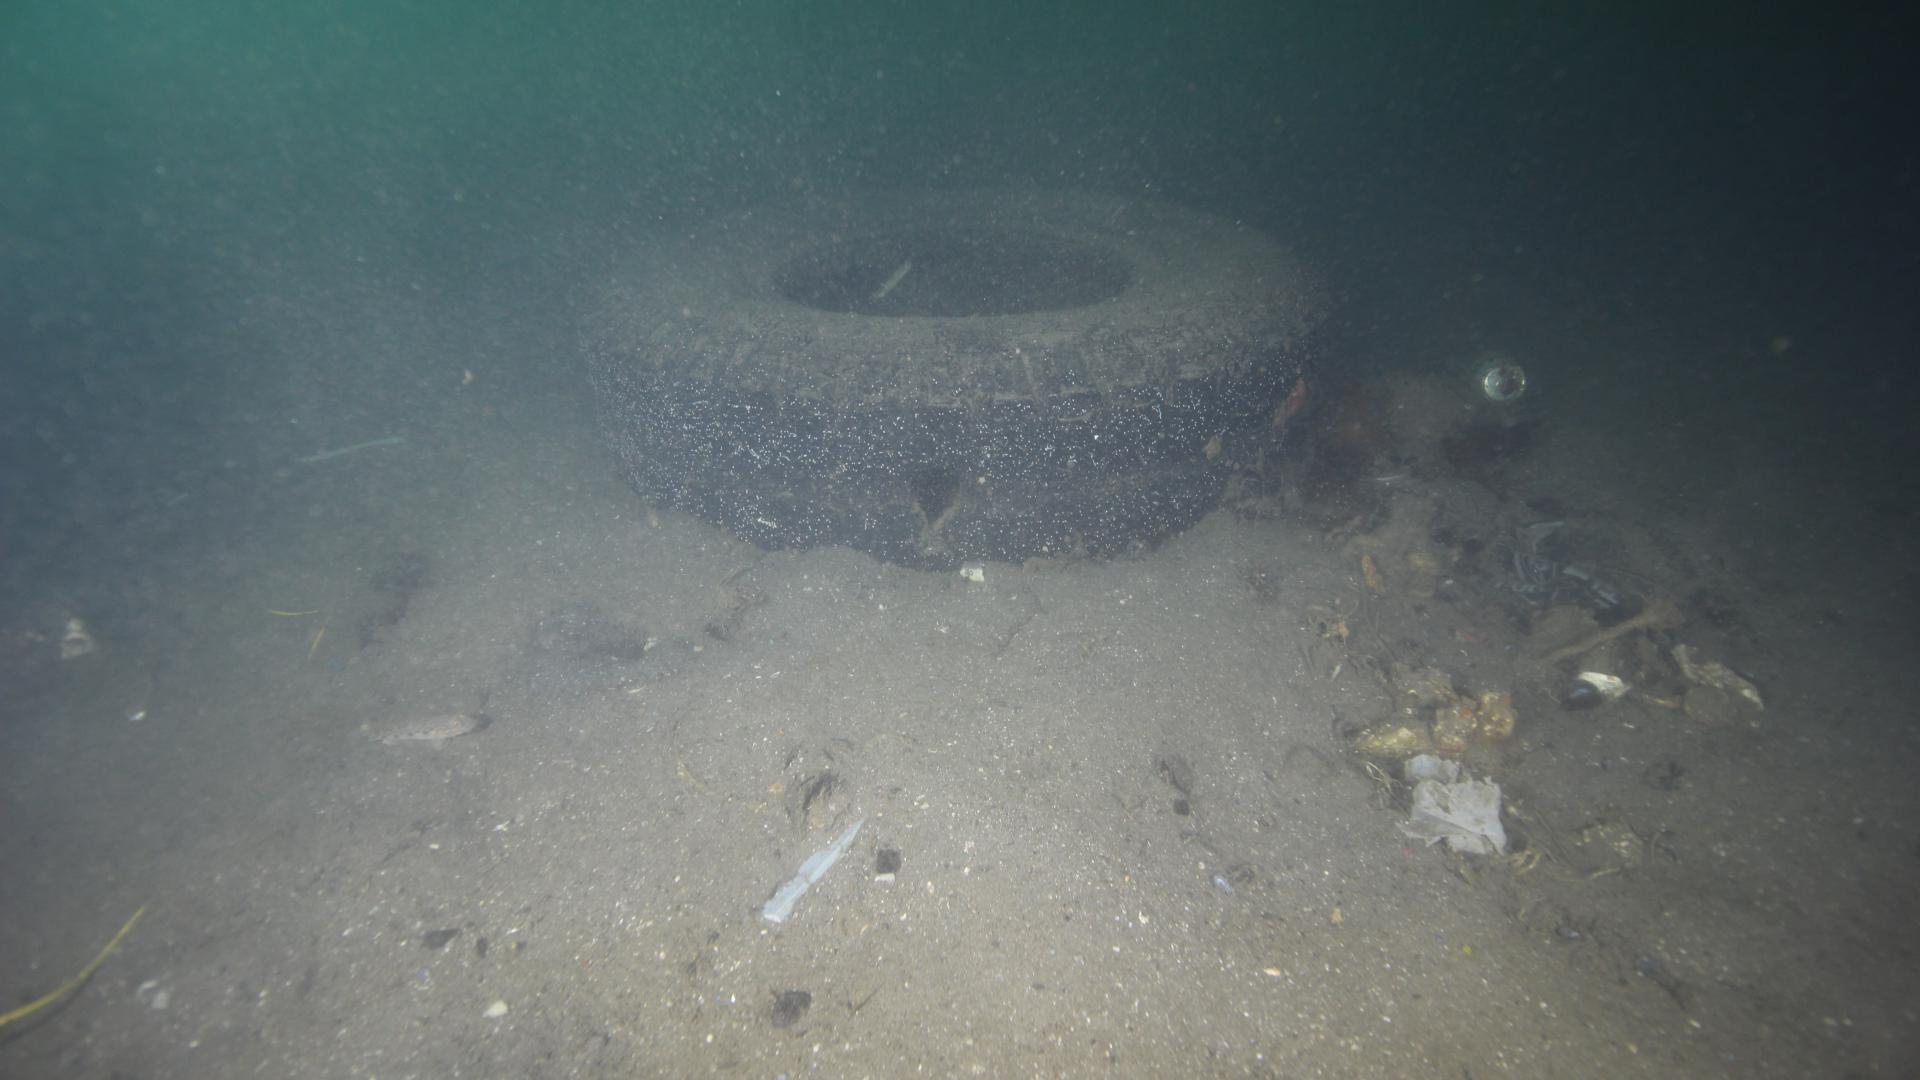tire: (567, 175, 1331, 576)
